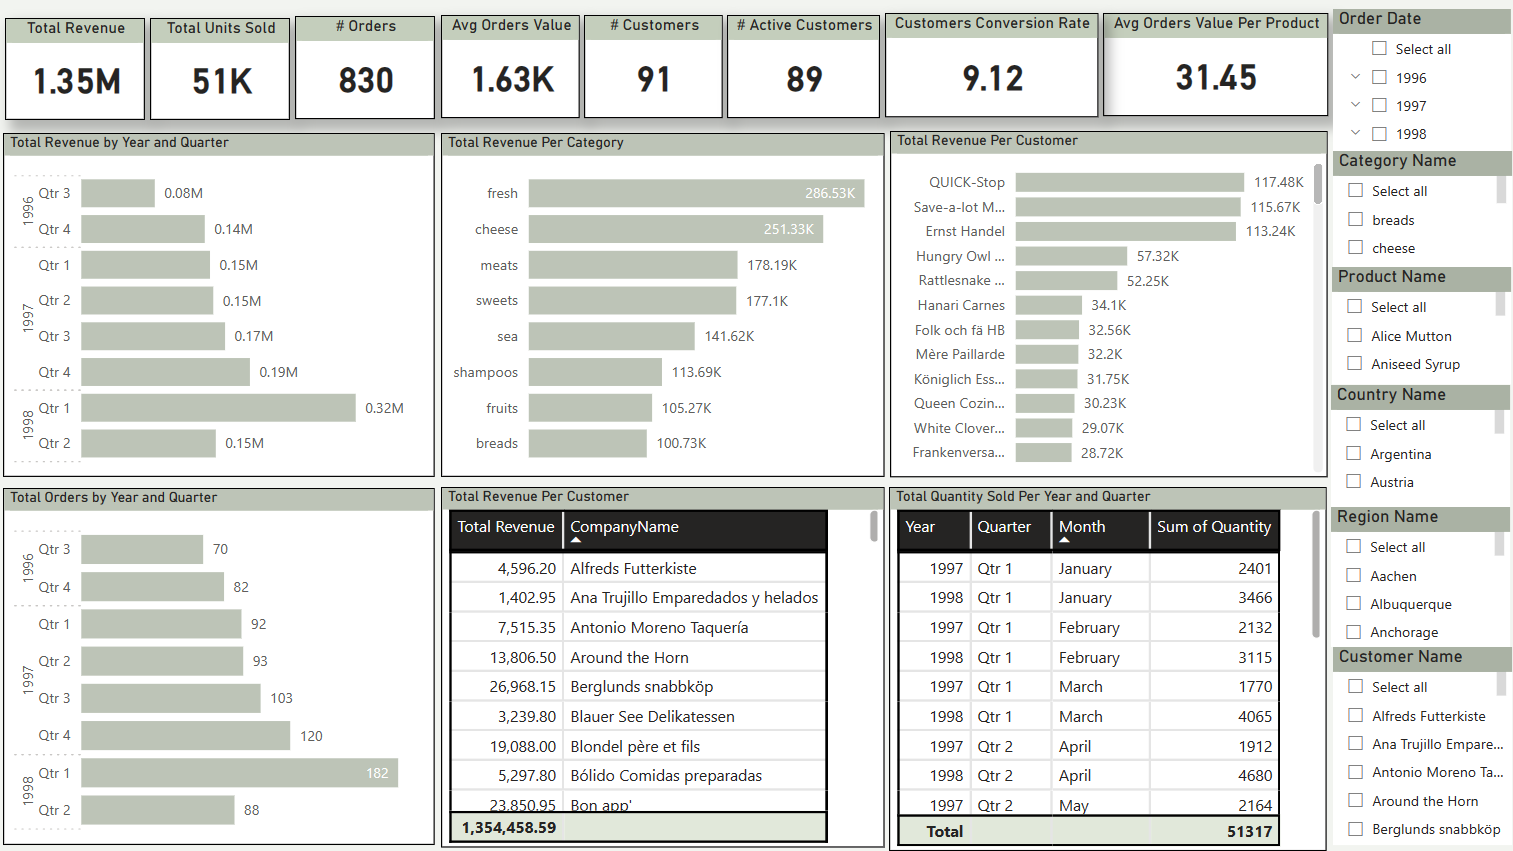

This screenshot's page, from the dashboard's own definition file:
{"tool":"powerbi","page":{"name":"Main","canvas":[1280,720],"ordinal":0},"visuals":[{"type":"card","title":"Total Revenue","fields":{"Values":["MyMeasures.Total Revenue"]},"box":[6.5,16.7,118.1,85.6],"z":0},{"type":"card","title":"Total Units Sold","fields":{"Values":["MyMeasures.Total Units Sold"]},"box":[129.3,16.7,118.1,85.6],"z":1000},{"type":"card","title":"# Orders","fields":{"Values":["MyMeasures.Count Orders"]},"box":[251.2,14.9,118.1,87.4],"z":2000},{"type":"card","title":"Avg Orders Value","fields":{"Values":["MyMeasures.Average Orders Value"]},"box":[374,14,117.2,87.4],"z":3000},{"type":"card","title":"Avg Orders Value Per Product","fields":{"Values":["MyMeasures.Average Order Value Per Product"]},"box":[932.1,13,189.8,87.4],"z":4000},{"type":"card","title":"# Customers","fields":{"Values":["MyMeasures.Count Custumers"]},"box":[494.9,14,117.2,87.4],"z":5000},{"type":"card","title":"# Active Customers","fields":{"Values":["MyMeasures.Count Active Customers"]},"box":[615.8,14,129.3,87.4],"z":6000},{"type":"card","title":"Customers Conversion Rate","fields":{"Values":["MyMeasures.Customers Conversion Rate"]},"box":[748.8,13,179.5,88.4],"z":7000},{"type":"slicer","title":"Order Date","fields":{"Values":["Orders.OrderDate.Variation.Date Hierarchy.Year","Orders.OrderDate.Variation.Date Hierarchy.Quarter","Orders.OrderDate.Variation.Date Hierarchy.Month","Orders.OrderDate.Variation.Date Hierarchy.Day"]},"box":[1126.6,9,149.6,122.7],"z":8000},{"type":"slicer","title":"Category Name","fields":{"Values":["Categories.CategoryName"]},"box":[1126.6,129,151.3,97.6],"z":9000},{"type":"slicer","title":"Product Name","fields":{"Values":["Product.ProductName"]},"box":[1125.7,226.6,151.3,99.4],"z":10000},{"type":"barChart","fields":{"Category":["Orders.OrderDate.Variation.Date Hierarchy.Year","Orders.OrderDate.Variation.Date Hierarchy.Quarter"],"Y":["MyMeasures.Total Revenue"]},"box":[5.4,113.7,363.6,290.1],"z":11000},{"type":"barChart","title":"Total Orders by Year and Quarter","fields":{"Category":["Orders.OrderDate.Variation.Date Hierarchy.Year","Orders.OrderDate.Variation.Date Hierarchy.Quarter"],"Y":["CountNonNull(Orders.OrderID)"]},"box":[5.4,412.8,363.6,300.9],"z":12000},{"type":"tableEx","title":"Total Quantity Sold Per Year and Quarter","fields":{"Values":["Orders.OrderDate.Variation.Date Hierarchy.Year","Orders.OrderDate.Variation.Date Hierarchy.Quarter","Orders.OrderDate.Variation.Date Hierarchy.Month","Sum(OrdersDetails.Quantity)"]},"box":[752.4,412.5,369,307.3],"z":13000},{"type":"barChart","title":"Total Revenue Per Customer","fields":{"Y":["MyMeasures.Total Revenue"],"Category":["Customers.CompanyName"]},"box":[753.1,111.9,369,291.9],"z":14000},{"type":"slicer","title":"Country Name","fields":{"Values":["Orders.ShipCountry"]},"box":[1124.8,326,151.3,103],"z":15000},{"type":"slicer","title":"Region Name","fields":{"Values":["Orders.ShipCity"]},"box":[1124.8,429,151.3,118.2],"z":16000},{"type":"slicer","title":"Customer Name","fields":{"Values":["Customers.CompanyName"]},"box":[1126.6,547.2,151.3,166.6],"z":17000},{"type":"barChart","title":"Total Revenue Per Category","fields":{"Y":["MyMeasures.Total Revenue"],"Category":["Categories.CategoryName"]},"box":[374.3,113.7,374.3,290.1],"z":18000},{"type":"tableEx","title":"Total Revenue Per Customer","fields":{"Values":["MyMeasures.Total Revenue","Customers.CompanyName"]},"box":[374.4,412.5,374.4,303.7],"z":19000}]}

Visuals, with their boxes in screenshot pixels (x1, y1, x2, y2), scaled from the page's 1280x720 canvas onto the 1513x851 screenshot:
"Total Revenue" card: (8, 20, 147, 121)
"Total Units Sold" card: (153, 20, 292, 121)
"# Orders" card: (297, 18, 437, 121)
"Avg Orders Value" card: (442, 17, 581, 120)
"Avg Orders Value Per Product" card: (1102, 15, 1326, 119)
"# Customers" card: (585, 17, 724, 120)
"# Active Customers" card: (728, 17, 881, 120)
"Customers Conversion Rate" card: (885, 15, 1097, 120)
"Order Date" slicer: (1332, 11, 1509, 156)
"Category Name" slicer: (1332, 152, 1511, 268)
"Product Name" slicer: (1331, 268, 1509, 385)
barChart - Orders.OrderDate.Variation.Date Hierarchy.Year x Orders.OrderDate.Variation.Date Hierarchy.Quarter: (6, 134, 436, 477)
"Total Orders by Year and Quarter" barChart: (6, 488, 436, 844)
"Total Quantity Sold Per Year and Quarter" tableEx: (889, 488, 1326, 850)
"Total Revenue Per Customer" barChart: (890, 132, 1326, 477)
"Country Name" slicer: (1330, 385, 1508, 507)
"Region Name" slicer: (1330, 507, 1508, 647)
"Customer Name" slicer: (1332, 647, 1511, 844)
"Total Revenue Per Category" barChart: (442, 134, 885, 477)
"Total Revenue Per Customer" tableEx: (443, 488, 885, 847)
